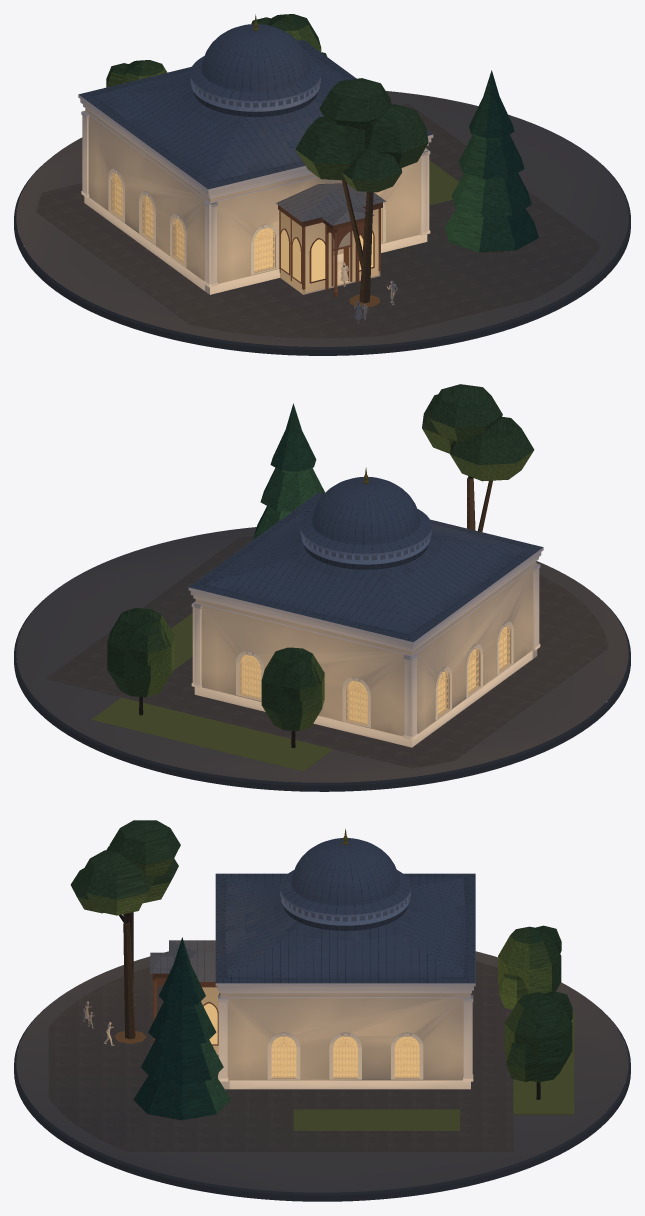
The model's file is orhan-gazi-turbesi_v02_night_sunum.glb.
3 views of the same model, one above another, from view 1: azimuth 30°, elevation 25°; view 2: azimuth 150°, elevation 25°; view 3: azimuth 270°, elevation 25° (orthographic).
Visible parts, largest first — view 1: Zemin_Doseme, Zemin_Kaide, Govde, Cati_Etek, Cevre_Agac_01, Cevre_Agac_04, Giris_Holu, Pilastr_Silme, Kubbe, Pencereler, Kasnak, Zemin_Cim (+2 smaller); view 2: Zemin_Kaide, Govde, Cati_Etek, Zemin_Doseme, Pilastr_Silme, Cevre_Agac_01, Kubbe, Zemin_Cim, Cevre_Agac_02, Cevre_Agac_03, Pencereler, Cevre_Agac_04 (+1 smaller); view 3: Zemin_Doseme, Zemin_Kaide, Cati_Etek, Govde, Cevre_Agac_04, Cevre_Agac_01, Pilastr_Silme, Kubbe, Zemin_Cim, Cevre_Agac_02, Cevre_Agac_03, Pencereler (+2 smaller).
Part boxes in pixels (left/top/right/bottom): Zemin_Doseme: left=36, top=103, right=601, bottom=338; Zemin_Kaide: left=14, top=91, right=630, bottom=355; Govde: left=85, top=108, right=425, bottom=283; Cati_Etek: left=79, top=39, right=432, bottom=189; Cevre_Agac_01: left=295, top=78, right=428, bottom=303; Cevre_Agac_04: left=444, top=70, right=538, bottom=252; Giris_Holu: left=276, top=183, right=386, bottom=296; Pilastr_Silme: left=78, top=94, right=433, bottom=294; Kubbe: left=190, top=14, right=321, bottom=100; Pencereler: left=108, top=168, right=385, bottom=274; Kasnak: left=190, top=77, right=320, bottom=116; Zemin_Cim: left=349, top=160, right=502, bottom=307; Zemin_Kaide: left=14, top=527, right=630, bottom=791; Govde: left=195, top=561, right=536, bottom=736; Cati_Etek: left=189, top=492, right=542, bottom=641; Zemin_Doseme: left=46, top=536, right=608, bottom=768; Pilastr_Silme: left=188, top=547, right=543, bottom=747; Cevre_Agac_01: left=422, top=384, right=534, bottom=531; Kubbe: left=300, top=467, right=431, bottom=553; Zemin_Cim: left=91, top=613, right=333, bottom=771; Cevre_Agac_02: left=107, top=608, right=174, bottom=715; Cevre_Agac_03: left=261, top=647, right=324, bottom=747; Pencereler: left=236, top=621, right=513, bottom=727; Cevre_Agac_04: left=253, top=403, right=325, bottom=538; Zemin_Doseme: left=48, top=961, right=513, bottom=1151; Zemin_Kaide: left=14, top=951, right=630, bottom=1201; Cati_Etek: left=215, top=873, right=475, bottom=983; Govde: left=221, top=993, right=470, bottom=1080; Cevre_Agac_04: left=133, top=937, right=230, bottom=1120; Cevre_Agac_01: left=70, top=820, right=180, bottom=1039; Pilastr_Silme: left=215, top=874, right=475, bottom=1089; Kubbe: left=280, top=829, right=411, bottom=914; Zemin_Cim: left=114, top=1011, right=574, bottom=1130; Cevre_Agac_02: left=504, top=991, right=572, bottom=1099; Cevre_Agac_03: left=498, top=925, right=561, bottom=1009; Pencereler: left=267, top=1032, right=423, bottom=1079.
Bounding box in the file's own units: 41.56 × 16.5 × 41.56.
Materials: 24 (8 with a texture image).
